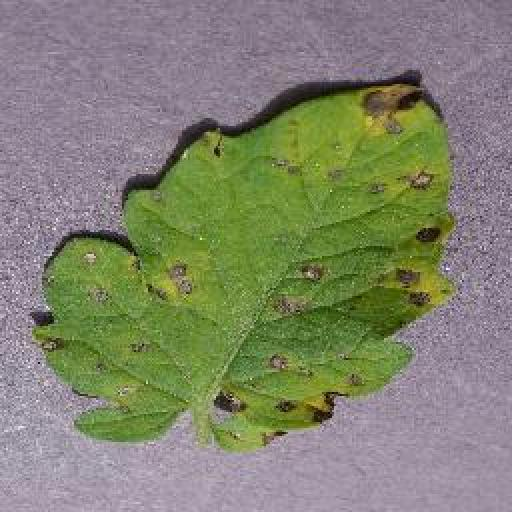disease_tomato: (38, 72, 460, 450)
